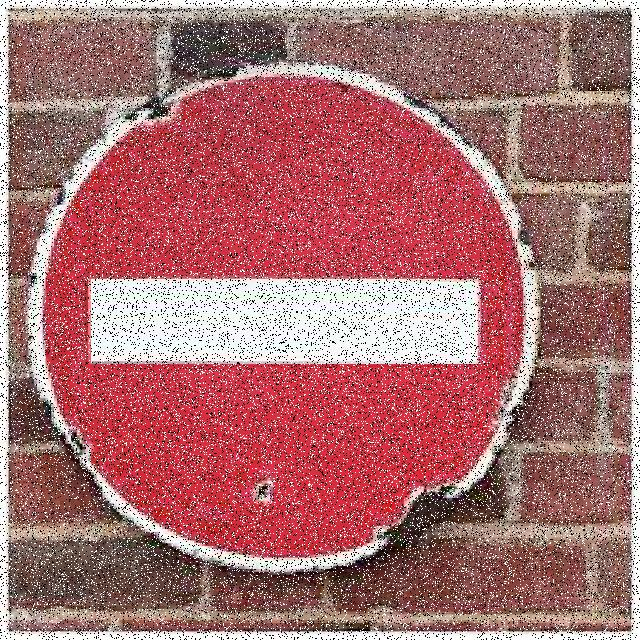no entry: (42, 74, 520, 552)
